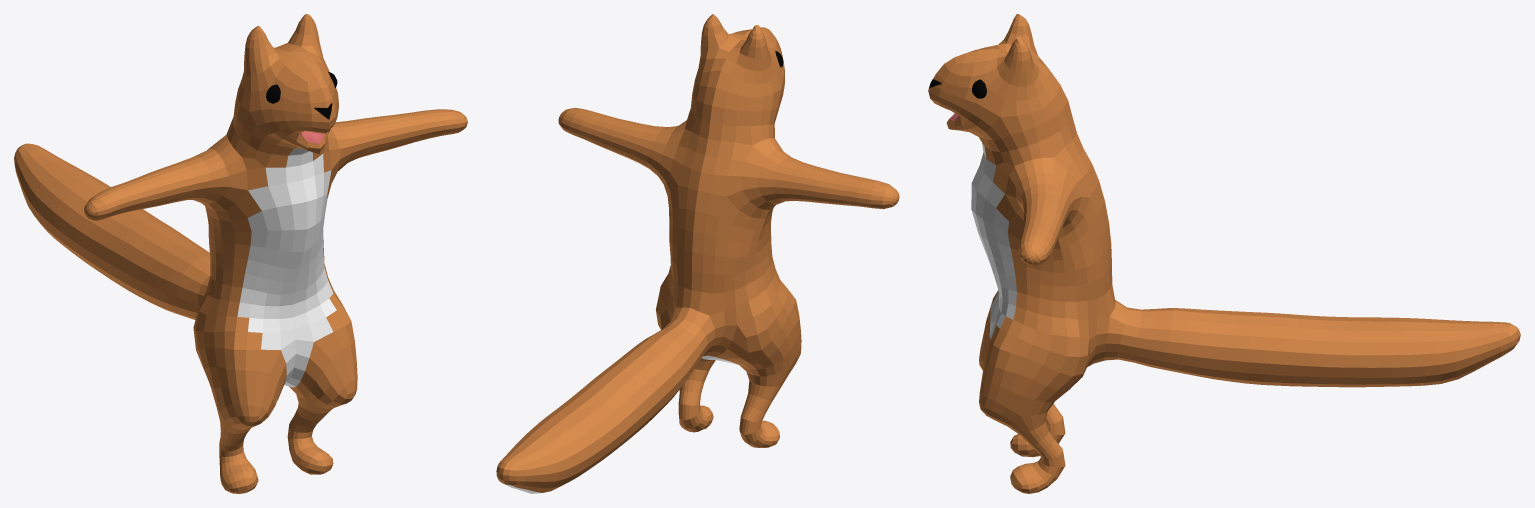
File: Unwrapped_squirrel.fbx
3 views of the same model, side by side, from view 1: azimuth 30°, elevation 25°; view 2: azimuth 150°, elevation 25°; view 3: azimuth 270°, elevation 25° (orthographic). The views are drawn at different scales.
Visible parts, largest first — view 1: squirle:Group25804; view 2: squirle:Group25804; view 3: squirle:Group25804.
Boxes of the visible parts, <box> form: squirle:Group25804: <box>14,14,467,493</box>; squirle:Group25804: <box>496,14,899,493</box>; squirle:Group25804: <box>928,14,1520,493</box>.
Size of the model in its own units: 3.05 by 3.56 by 4.28.
